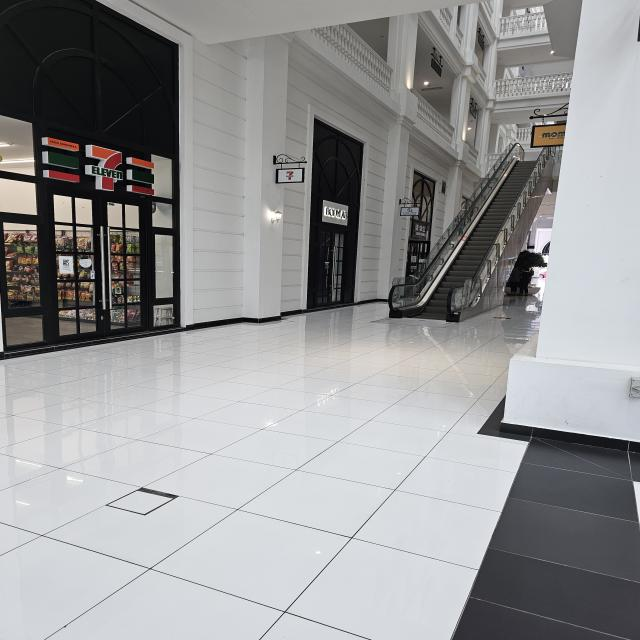door: (39, 188, 154, 334)
footpath: (6, 339, 512, 640)
obstacle: (389, 256, 472, 322)
wall: (506, 56, 640, 429)
